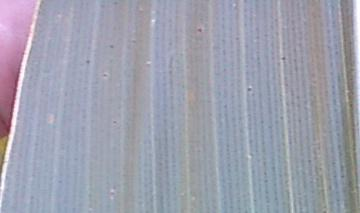tarspot: (107, 188, 117, 198), (245, 84, 254, 94), (107, 40, 116, 50), (101, 70, 109, 79), (110, 118, 119, 126), (84, 58, 92, 66), (280, 54, 287, 62), (196, 27, 204, 34)
